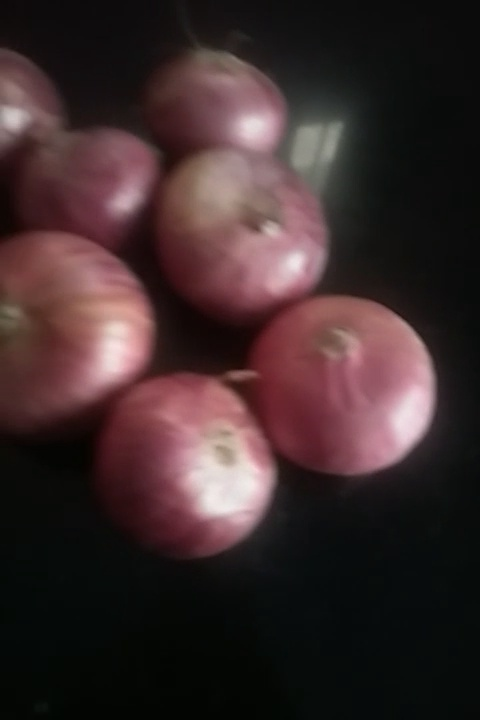onion: (247, 287, 446, 491), (105, 363, 292, 571), (148, 148, 356, 320), (1, 235, 159, 409), (17, 123, 146, 250), (144, 43, 284, 152), (1, 57, 66, 140)
